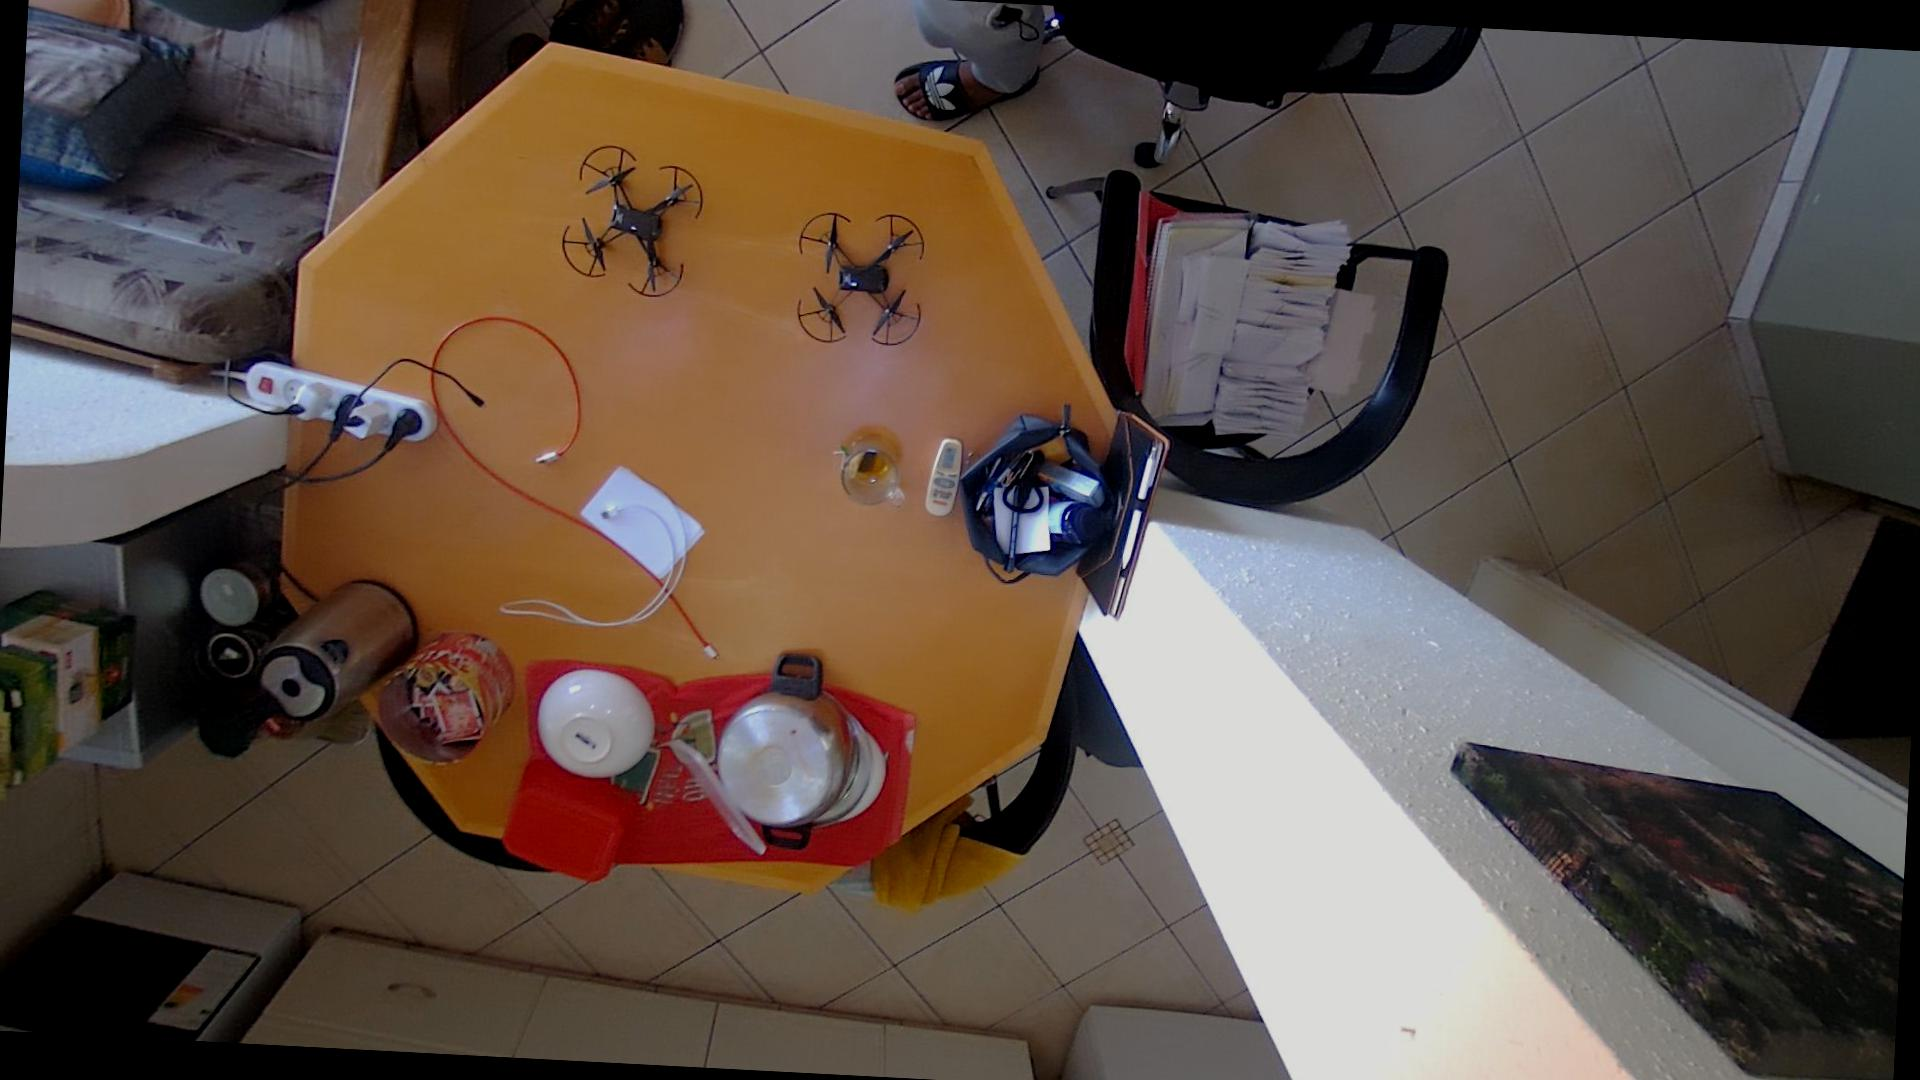dji-tello-edu-drone: (545, 138, 712, 297), (775, 196, 936, 357)
